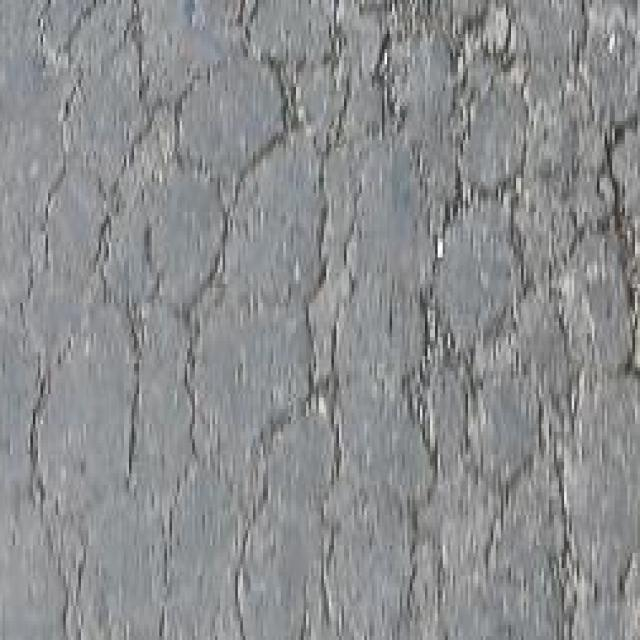GRIETA: (555, 467, 578, 639), (320, 545, 353, 639), (45, 541, 70, 639), (158, 519, 175, 639), (74, 528, 89, 639), (234, 529, 249, 639), (570, 0, 590, 64)
PIEL DE COCODRILO: (15, 6, 639, 546)
